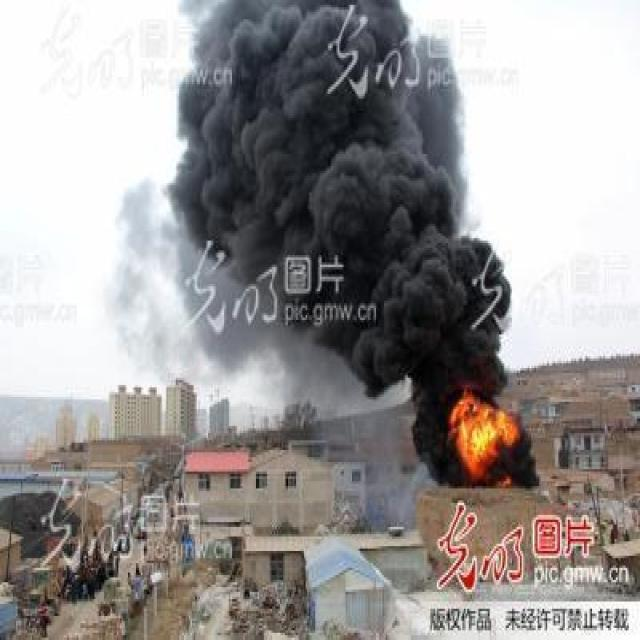Fire: (449, 394, 522, 478)
Smoke: (113, 2, 542, 536)
